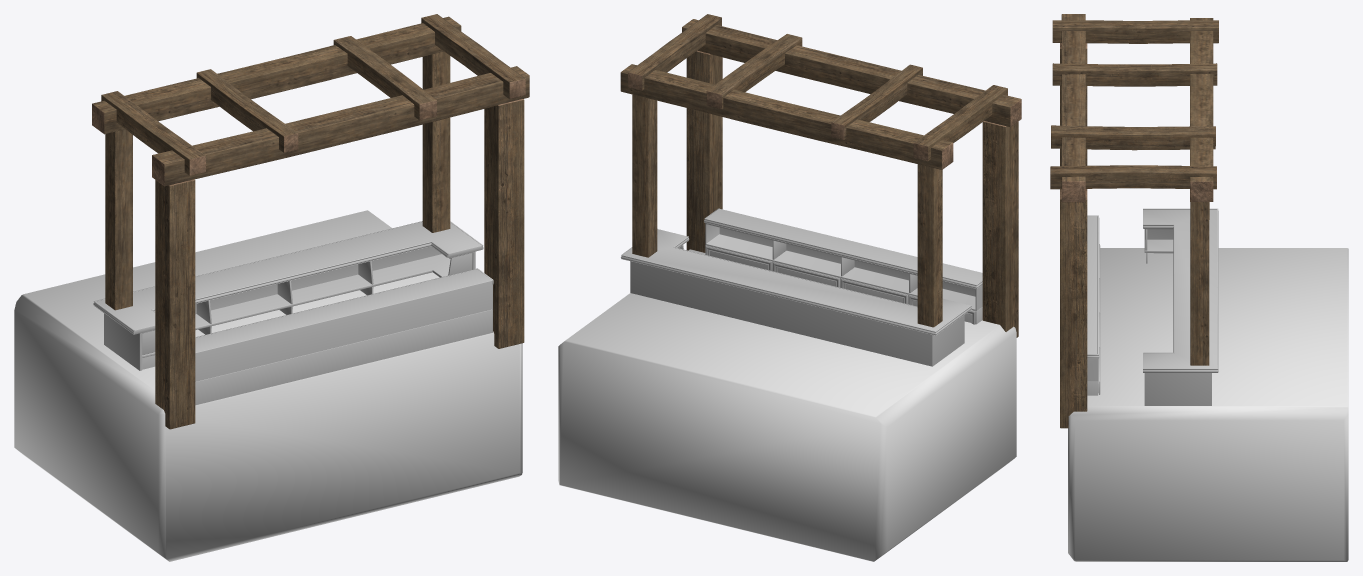
The model's file is SM_BarSetup.fbx.
3 renders of one model, left to right at view 1: azimuth 30°, elevation 25°; view 2: azimuth 150°, elevation 25°; view 3: azimuth 270°, elevation 25°, orthographic. The views are drawn at different scales.
Parts seen in each view (by area): view 1: SM_BarSetup, SM_BarSetup_ConvexHulls; view 2: SM_BarSetup_ConvexHulls, SM_BarSetup; view 3: SM_BarSetup_ConvexHulls, SM_BarSetup.
Boxes of the visible parts, x1,y1,x2,y2 form: SM_BarSetup: [92, 14, 529, 429]; SM_BarSetup_ConvexHulls: [14, 210, 522, 561]; SM_BarSetup_ConvexHulls: [558, 249, 1016, 561]; SM_BarSetup: [620, 14, 1021, 366]; SM_BarSetup_ConvexHulls: [1068, 248, 1348, 561]; SM_BarSetup: [1050, 14, 1218, 428].
Bounding box in the file's own units: 6.2 × 6.66 × 4.66.
